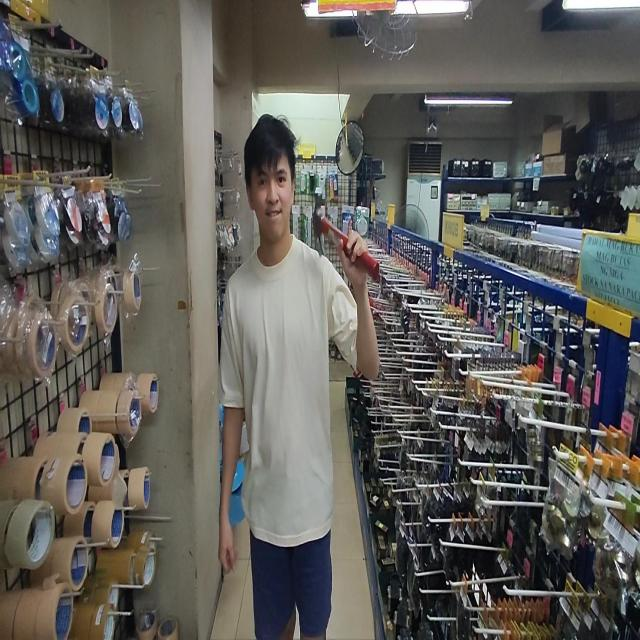hammer: (313, 192, 380, 282)
